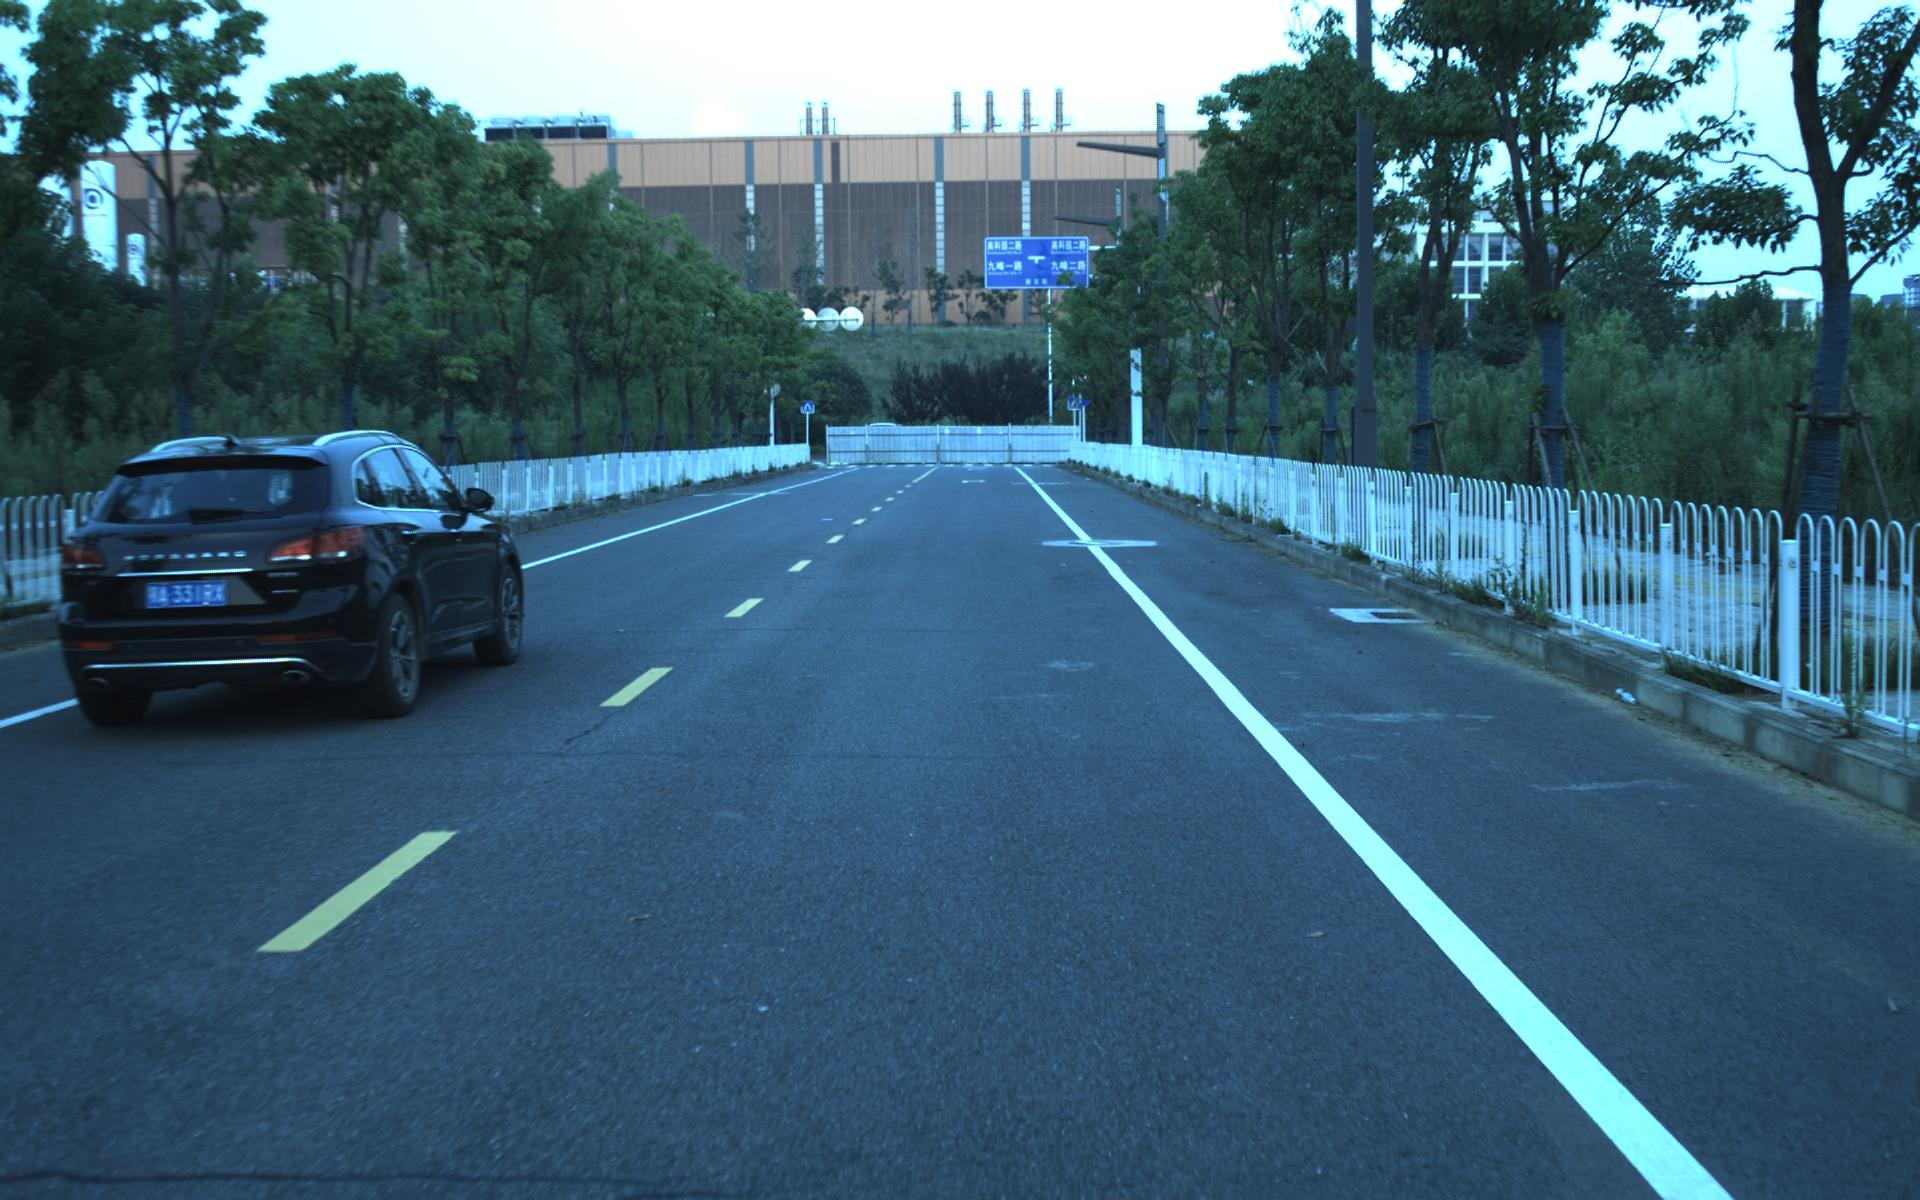Car: (41, 418, 529, 733)
